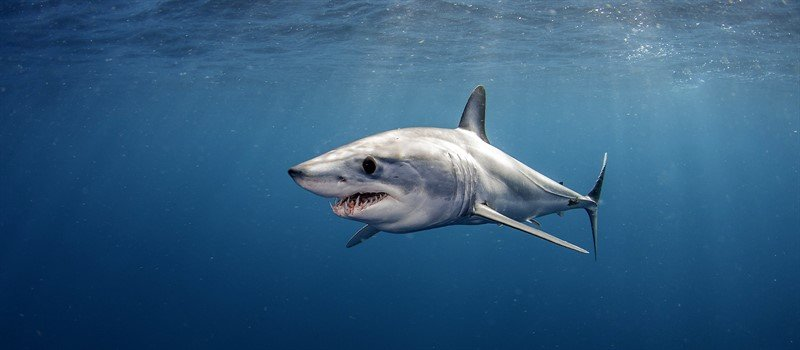shark: (283, 79, 621, 262)
